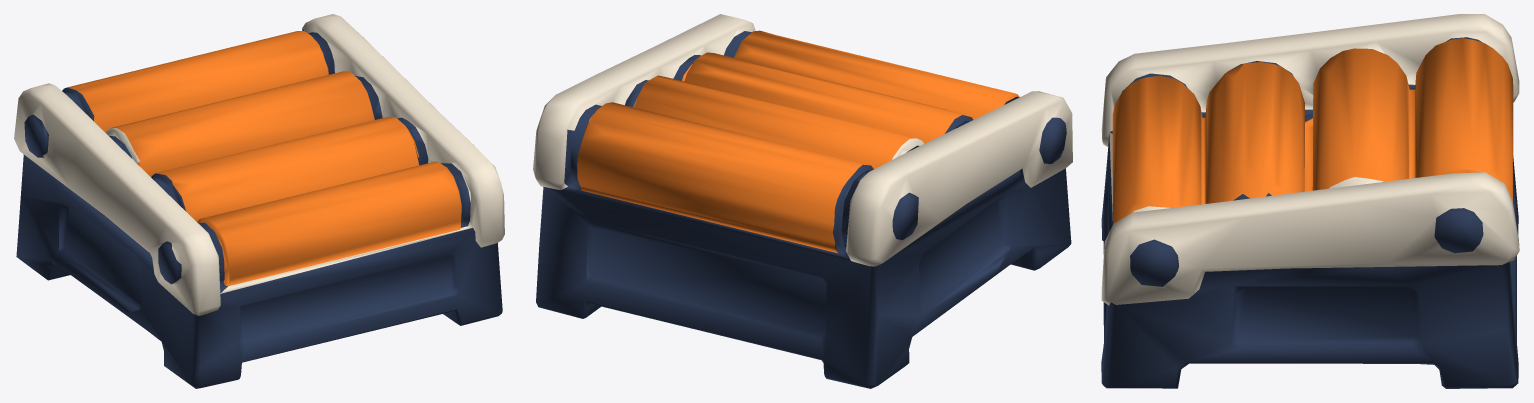
Rendered from compact-loading-conveyor_LOD1.glb.
3 views of the same model, side by side, from view 1: azimuth 30°, elevation 25°; view 2: azimuth 150°, elevation 25°; view 3: azimuth 270°, elevation 25° (orthographic). The views are drawn at different scales.
Parts seen in each view (by area): view 1: compact-loading-conveyor_LOD1; view 2: compact-loading-conveyor_LOD1; view 3: compact-loading-conveyor_LOD1.
Part boxes in pixels (bbox=[...]): compact-loading-conveyor_LOD1: bbox=[14, 14, 504, 388]; compact-loading-conveyor_LOD1: bbox=[533, 14, 1072, 388]; compact-loading-conveyor_LOD1: bbox=[1101, 14, 1519, 388].
Size of the model in its own units: 1.58 by 0.8504 by 1.56.
1 material, 1 textured.
